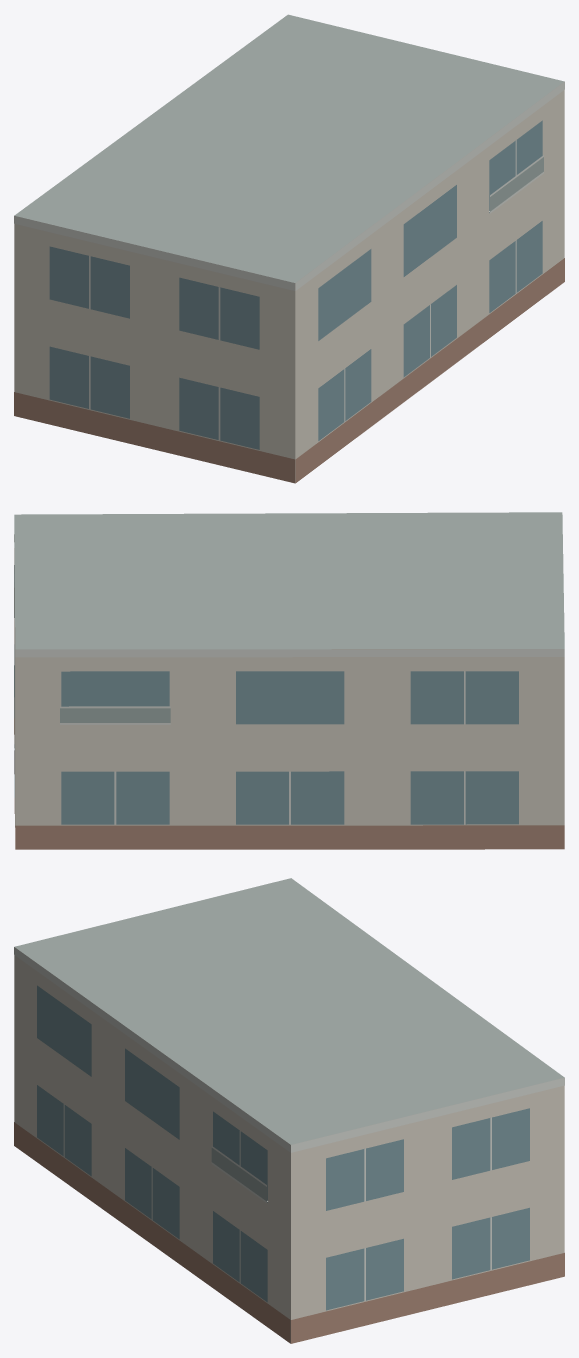
The model's file is survey-upis-32687952.glb.
3 renders of one model, top to bottom at view 1: azimuth 30°, elevation 25°; view 2: azimuth 150°, elevation 25°; view 3: azimuth 270°, elevation 25°, orthographic.
Parts seen in each view (by area): view 1: survey-upis-32687952.tmp; view 2: survey-upis-32687952.tmp; view 3: survey-upis-32687952.tmp.
Part boxes in pixels (x1=…): survey-upis-32687952.tmp: x1=14, y1=14, x2=564, y2=483; survey-upis-32687952.tmp: x1=14, y1=512, x2=564, y2=849; survey-upis-32687952.tmp: x1=14, y1=878, x2=564, y2=1343.
Bounding box in the file's own units: 17.56 × 6.1 × 15.31.
